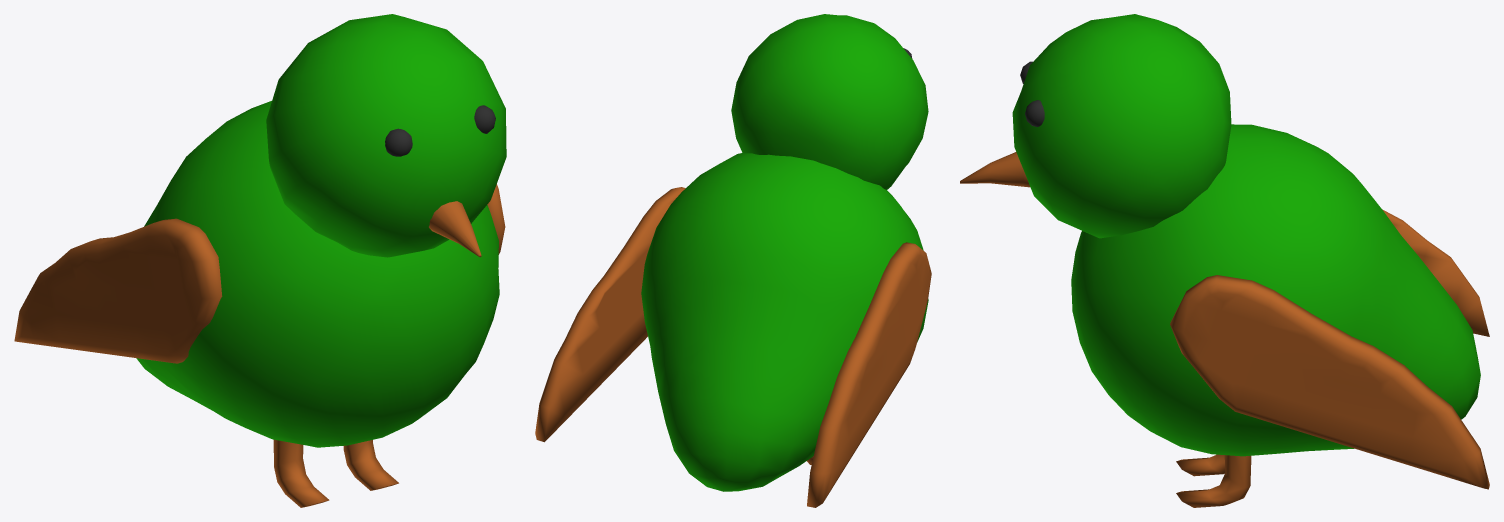
File: davutpasa_papagani.fbx
3 renders of one model, left to right at view 1: azimuth 30°, elevation 25°; view 2: azimuth 150°, elevation 25°; view 3: azimuth 270°, elevation 25°, orthographic. The views are drawn at different scales.
Parts seen in each view (by area): view 1: davutpasa_papagani; view 2: davutpasa_papagani; view 3: davutpasa_papagani.
Part boxes in pixels (x1,y1,x2,y2): davutpasa_papagani: [14, 14, 506, 507]; davutpasa_papagani: [535, 14, 931, 507]; davutpasa_papagani: [960, 14, 1489, 507].
Bounding box in the file's own units: 232 × 309 × 318.
